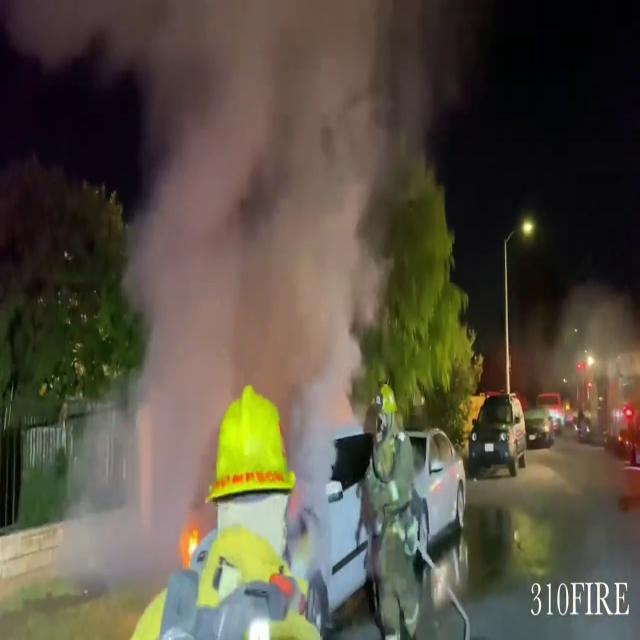Smoke: (73, 0, 443, 602)
